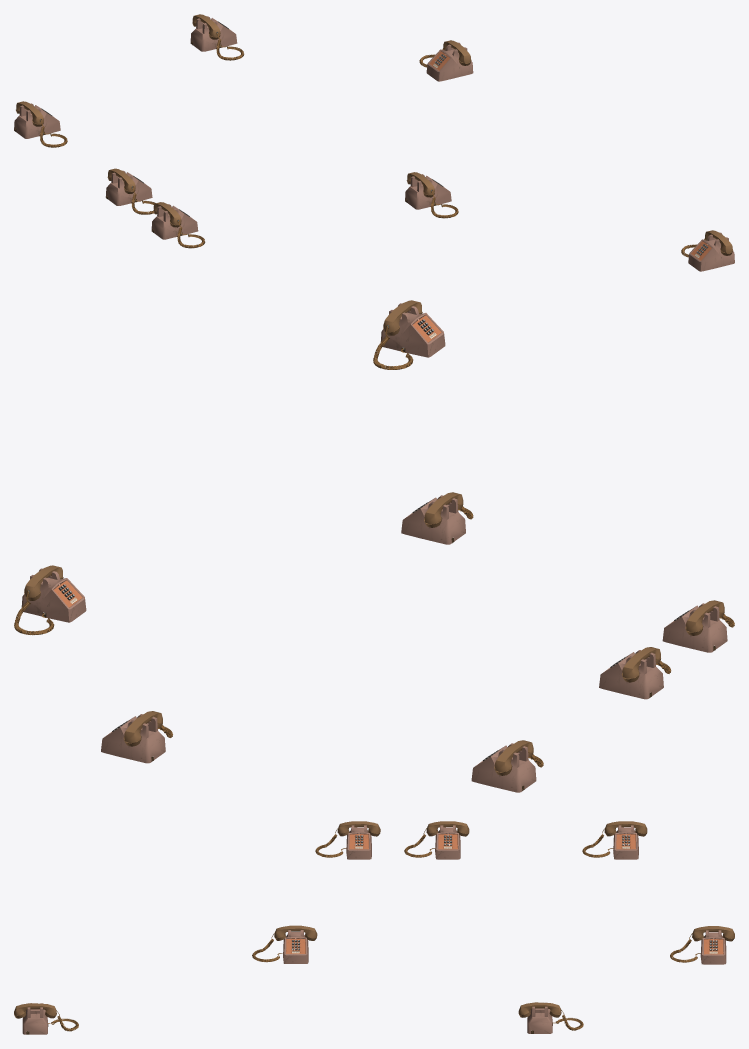
Rendered from Phones_2.glb.
3 views of the same model, one above another, from view 1: azimuth 30°, elevation 25°; view 2: azimuth 150°, elevation 25°; view 3: azimuth 270°, elevation 25° (orthographic). The views are drawn at different scales.
Parts seen in each view (by area): view 1: Phones_2; view 2: Phones_2; view 3: Phones_2.
Boxes of the visible parts, x1,y1,x2,y2 form: Phones_2: (14, 14, 734, 271); Phones_2: (14, 300, 734, 792); Phones_2: (14, 821, 734, 1034).
Size of the model in its own units: 9.89 by 0.6269 by 15.68.
3 materials, 3 textured.
